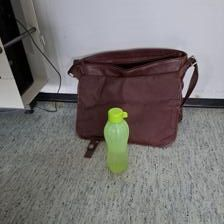bottle: (100, 105, 132, 176)
